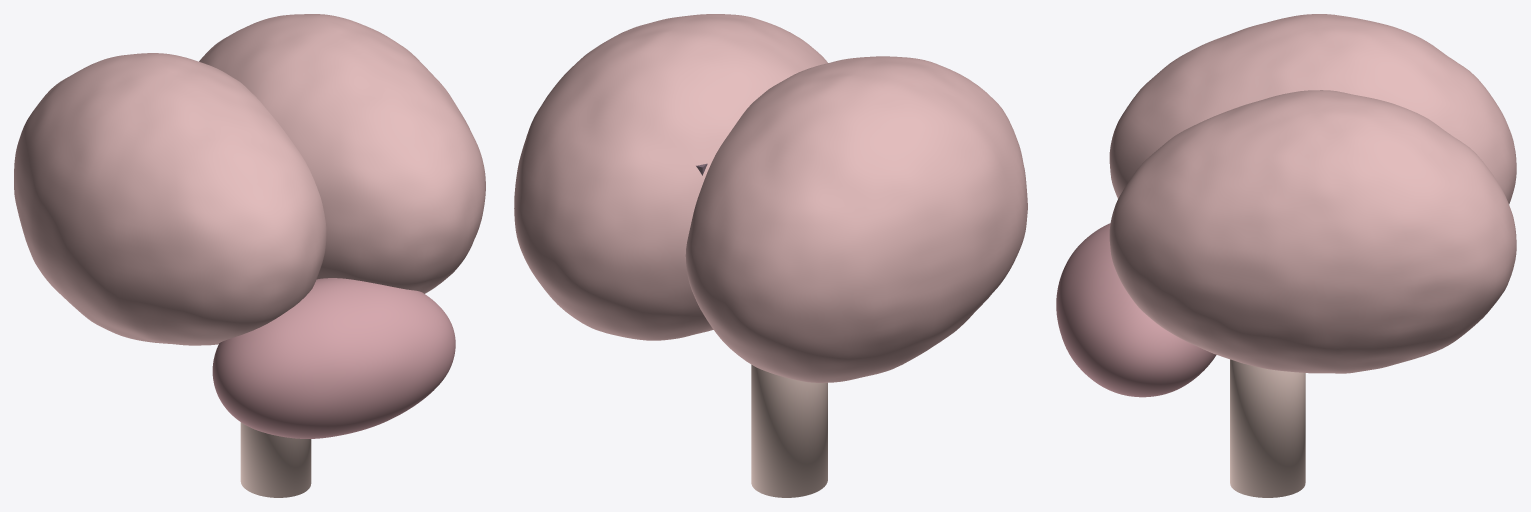
Rendered from anatomical-brain.glb.
3 renders of one model, left to right at view 1: azimuth 30°, elevation 25°; view 2: azimuth 150°, elevation 25°; view 3: azimuth 270°, elevation 25°, orthographic. The views are drawn at different scales.
Visible parts, largest first — view 1: Right hemisphere, Left hemisphere, Cerebellum, Brainstem; view 2: Right hemisphere, Left hemisphere, Brainstem; view 3: Left hemisphere, Right hemisphere, Cerebellum, Brainstem.
Boxes of the visible parts, left/top/right/bottom form: Right hemisphere: left=14, top=53, right=326, bottom=345; Left hemisphere: left=199, top=14, right=485, bottom=293; Cerebellum: left=212, top=278, right=455, bottom=438; Brainstem: left=240, top=422, right=311, bottom=497; Right hemisphere: left=685, top=56, right=1027, bottom=382; Left hemisphere: left=514, top=14, right=827, bottom=340; Brainstem: left=751, top=364, right=827, bottom=497; Left hemisphere: left=1109, top=90, right=1516, bottom=373; Right hemisphere: left=1109, top=14, right=1516, bottom=204; Cerebellum: left=1056, top=223, right=1216, bottom=397; Brainstem: left=1230, top=359, right=1305, bottom=497.
Size of the model in its own units: 2.96 by 2.91 by 2.93.
